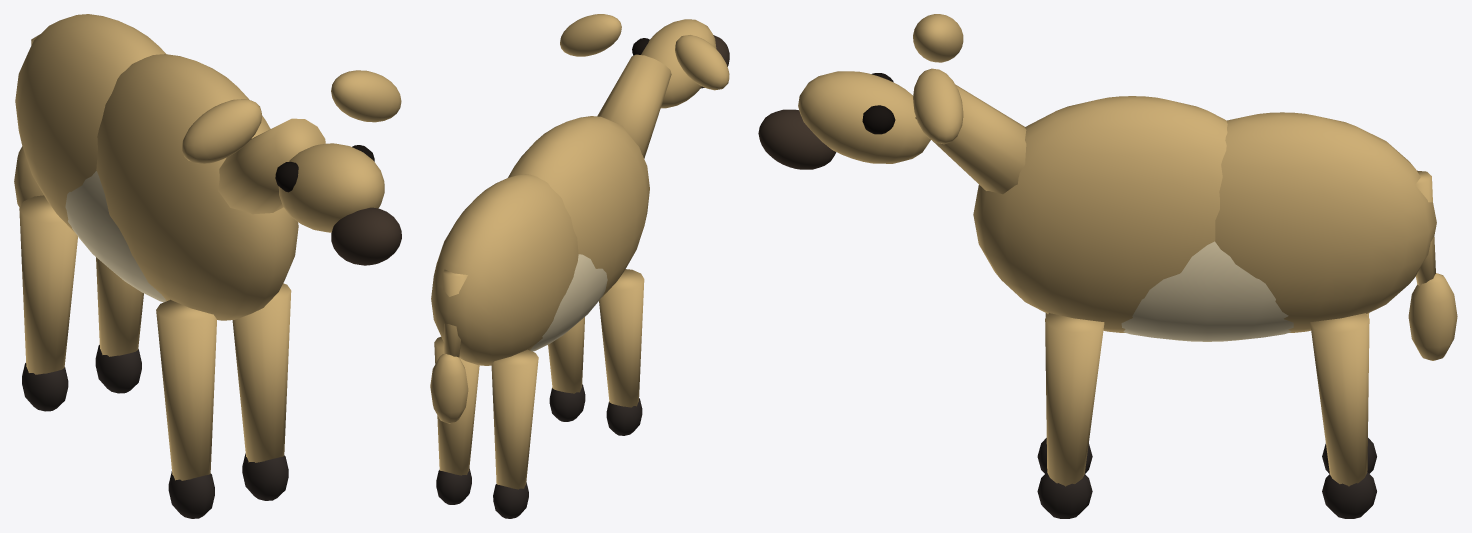
The model's file is dog.glb.
3 renders of one model, left to right at view 1: azimuth 30°, elevation 25°; view 2: azimuth 150°, elevation 25°; view 3: azimuth 270°, elevation 25°, orthographic. The views are drawn at different scales.
Visible parts, largest first — view 1: dog; view 2: dog; view 3: dog.
Boxes of the visible parts, x1,y1,x2,y2 form: dog: (14,14,401,518); dog: (430,14,729,518); dog: (758,14,1457,518).
Bounding box in the file's own units: 0.4904 × 1.02 × 1.43.
